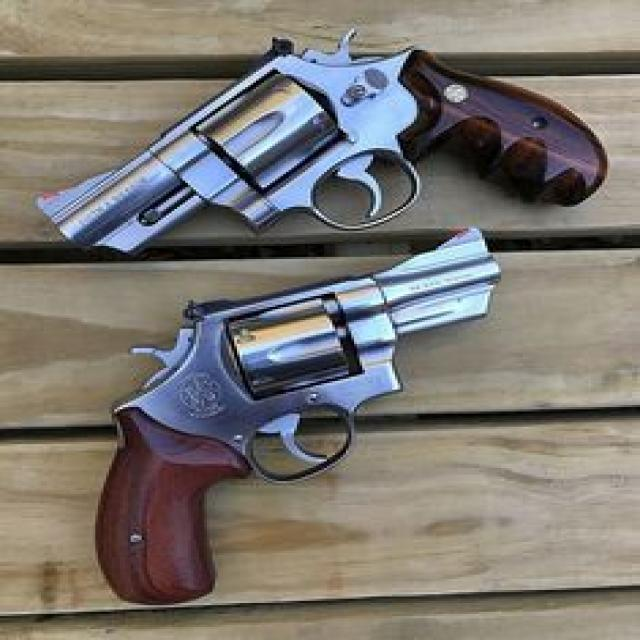revolver: (14, 8, 640, 278)
